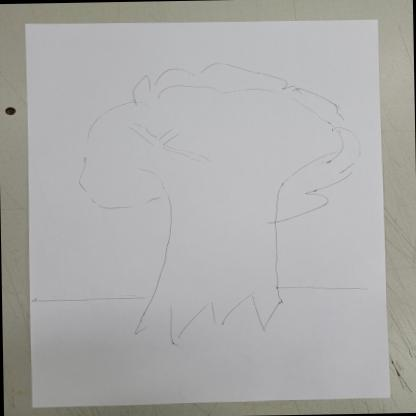crown_dizzy: (71, 54, 367, 226)
root_upside: (125, 281, 304, 350)
trunk_straight: (154, 219, 282, 280)
